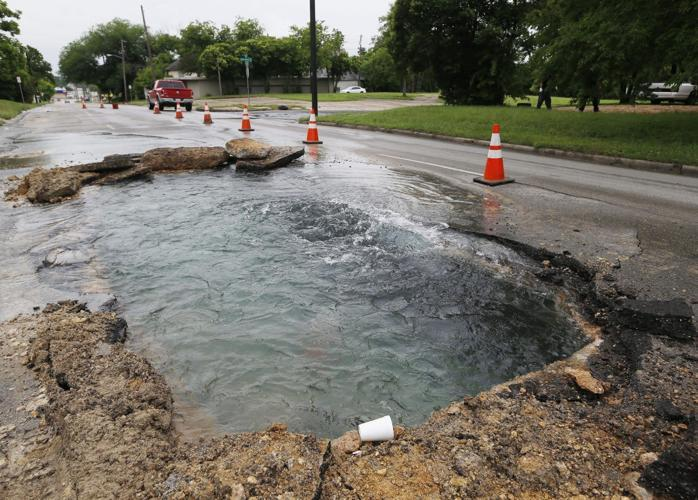water_leak: (1, 179, 580, 434)
